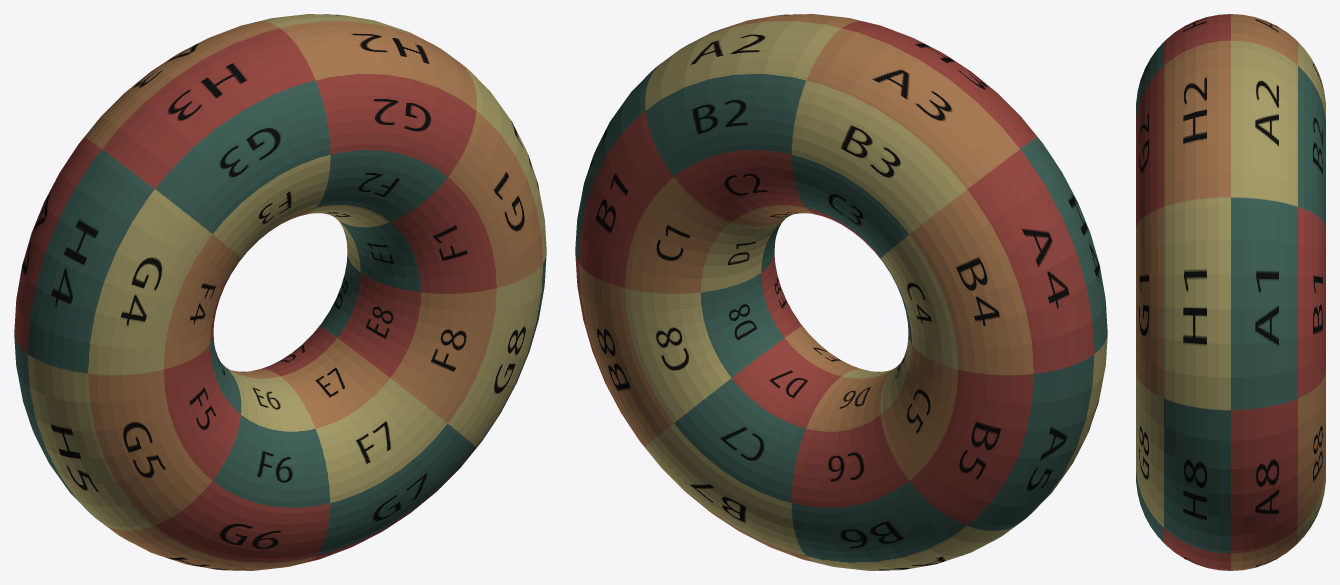
File: texture_torus_R7_r21.glb
3 renders of one model, left to right at view 1: azimuth 30°, elevation 25°; view 2: azimuth 150°, elevation 25°; view 3: azimuth 270°, elevation 25°, orthographic. The views are drawn at different scales.
Parts seen in each view (by area): view 1: world; view 2: world; view 3: world.
Boxes of the visible parts, x1,y1,x2,y2 form: world: (14,14,546,570); world: (575,14,1107,570); world: (1136,14,1325,570).
Size of the model in its own units: 22.27 by 22.22 by 7.59.
1 material, 1 textured.
